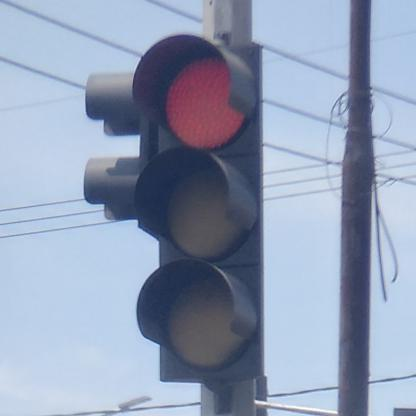red: (130, 33, 264, 387)
